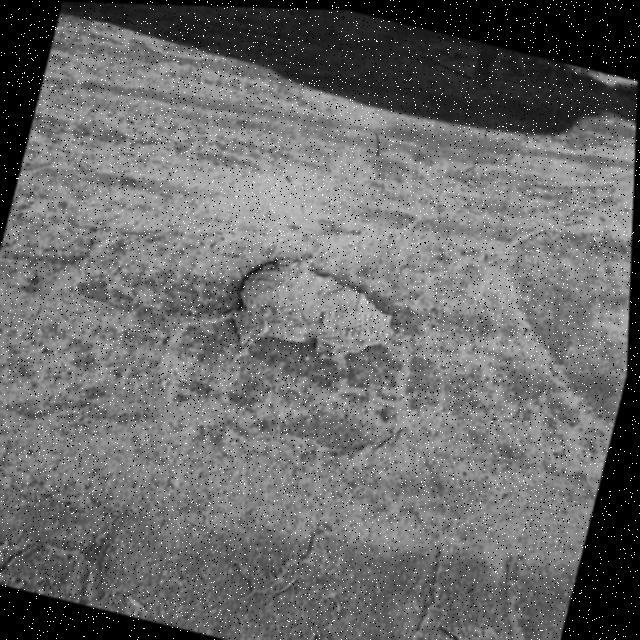pothole: (220, 240, 412, 380)
